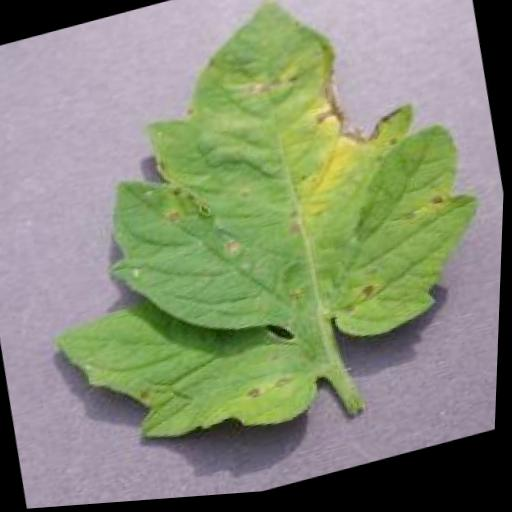Septoria: (2, 0, 512, 482)
